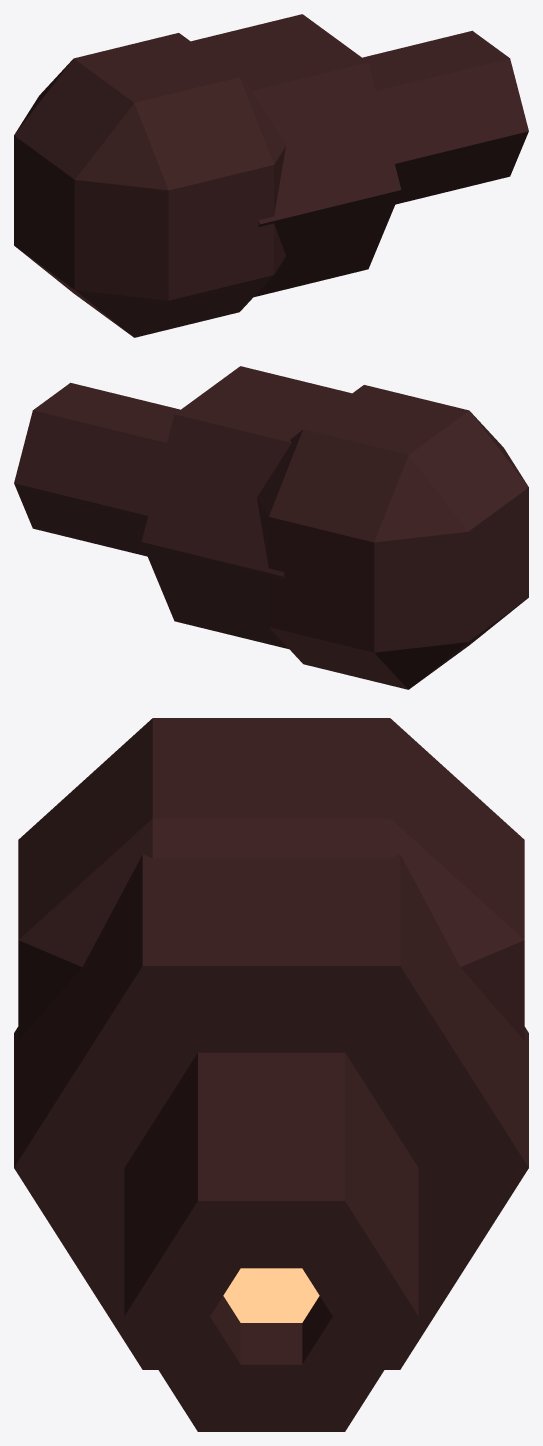
Rendered from Cannon.fbx.
3 views of the same model, one above another, from view 1: azimuth 30°, elevation 25°; view 2: azimuth 150°, elevation 25°; view 3: azimuth 270°, elevation 25° (orthographic). The views are drawn at different scales.
Visible parts, largest first — view 1: Cube.016, Cylinder, Cylinder.014; view 2: Cube.016, Cylinder, Cylinder.014; view 3: Cylinder, Cylinder.014, Cube.016.
Part boxes in pixels (x1,y1,x2,y2): Cube.016: (14,33,285,337); Cylinder: (191,14,401,296); Cylinder.014: (362,30,528,204); Cube.016: (257,385,528,689); Cylinder: (141,366,351,648); Cylinder.014: (14,382,180,556); Cylinder: (14,854,528,1369); Cylinder.014: (124,1052,418,1431); Cube.016: (18,718,524,1040).
Bounding box in the file's own units: 1.5 × 2.93 × 1.47.
